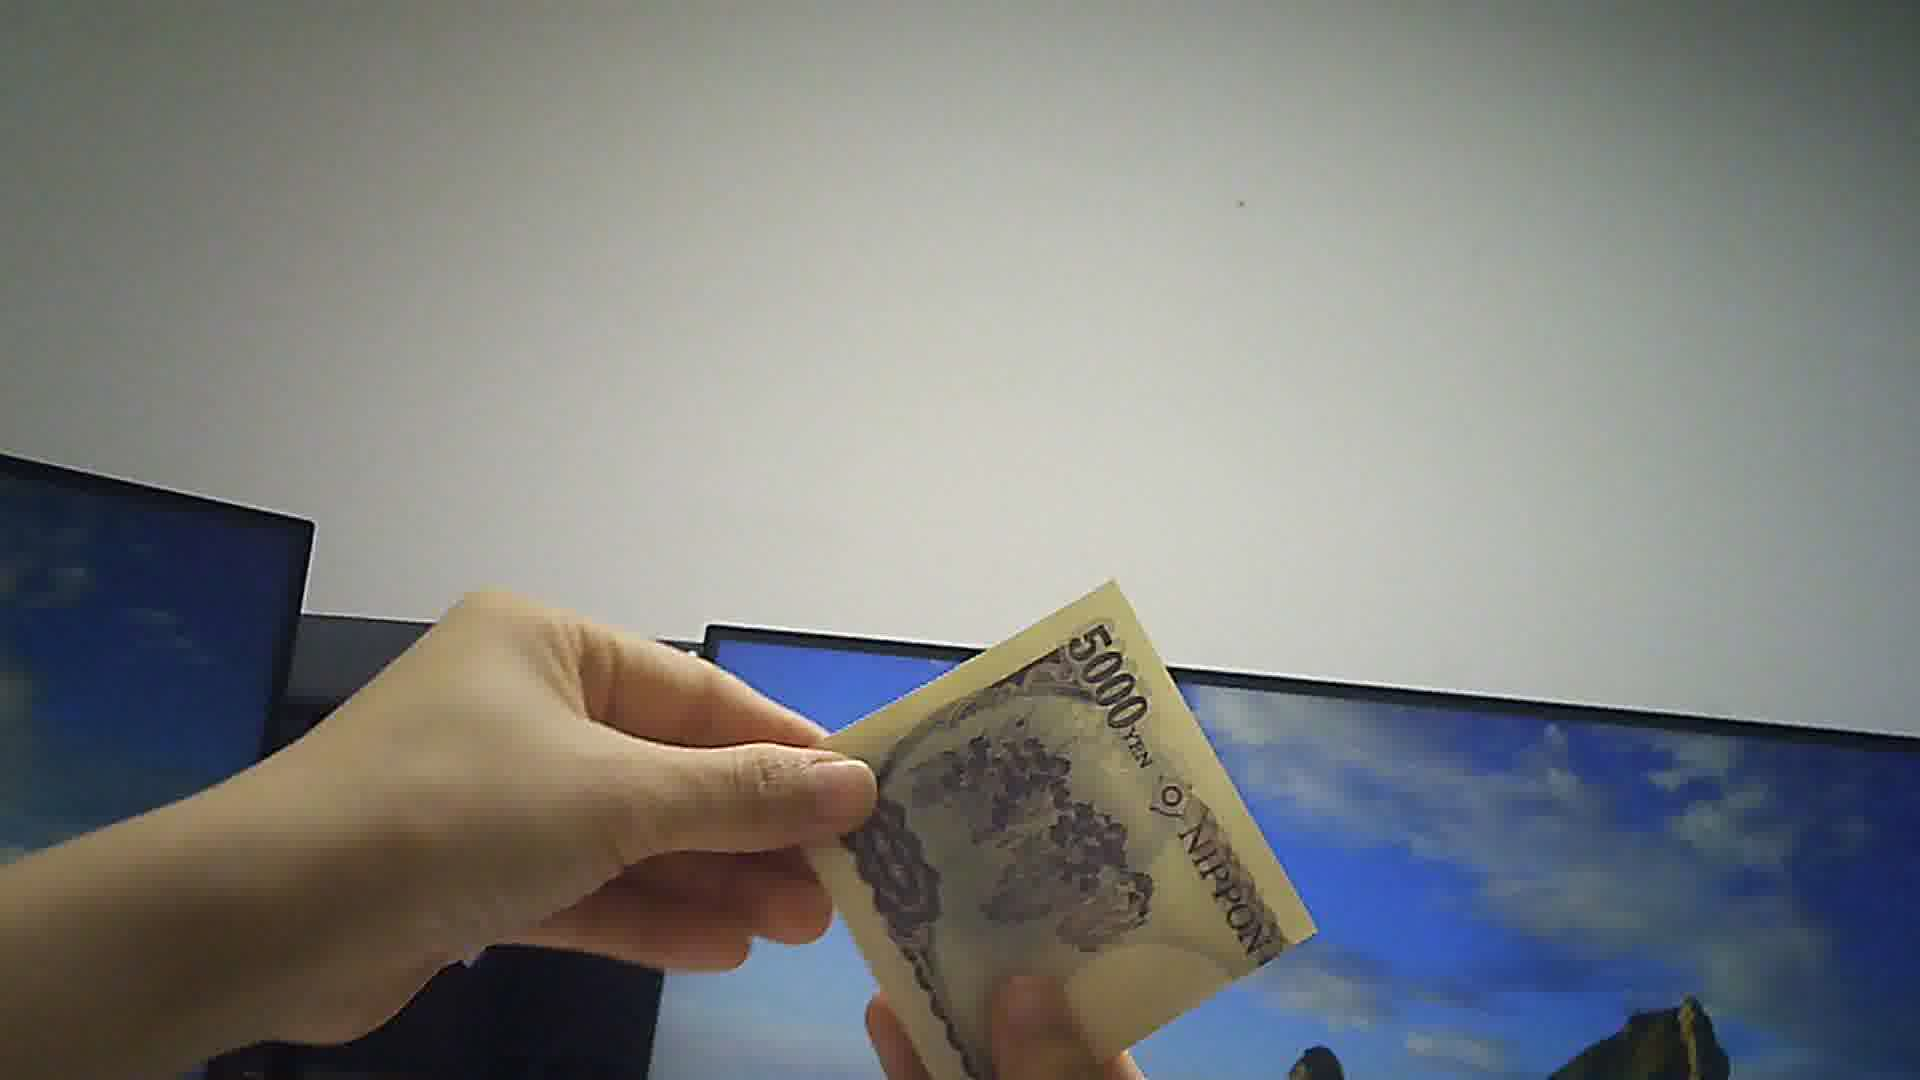5,000 Yen: (778, 585, 1302, 1079)
